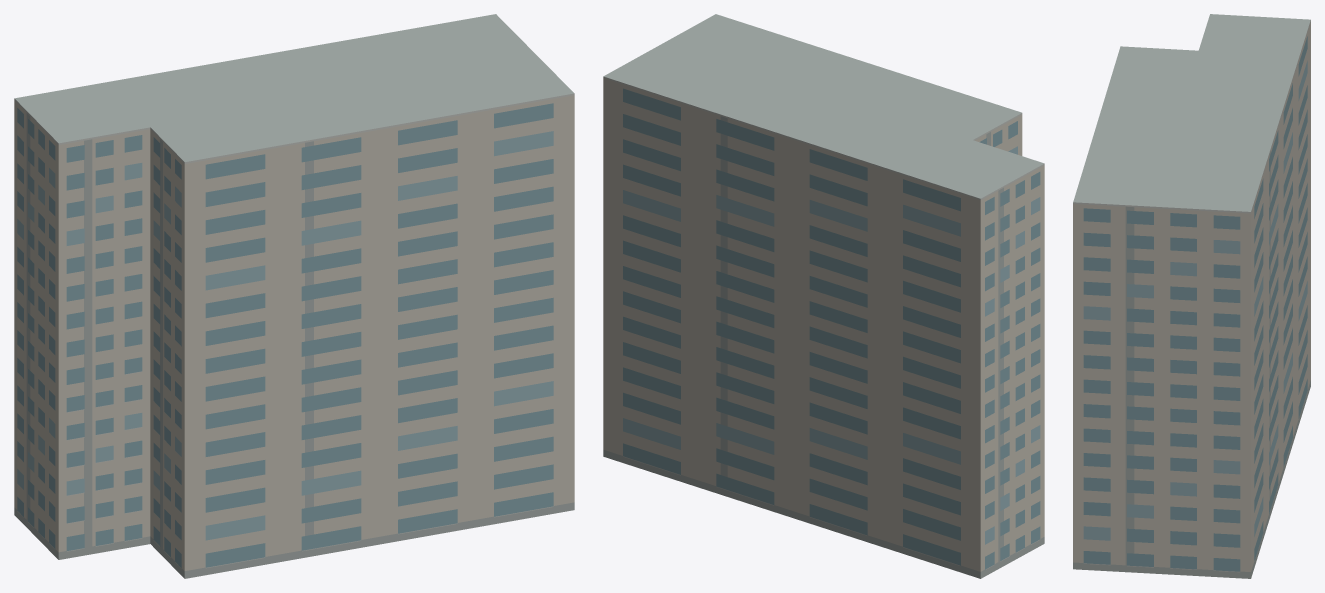
File: residential-ca13d616-8e19-446a-a130-e8547a9db186.glb
The picture shows the model from 3 angles, left to right: view 1: azimuth 30°, elevation 25°; view 2: azimuth 150°, elevation 25°; view 3: azimuth 270°, elevation 25°; orthographic projection. The views are drawn at different scales.
Visible parts, largest first — view 1: residential-ca13d616-8e19-446a-a130-e8547a9db186.tmp; view 2: residential-ca13d616-8e19-446a-a130-e8547a9db186.tmp; view 3: residential-ca13d616-8e19-446a-a130-e8547a9db186.tmp.
Boxes of the visible parts, bbox=[...] form: residential-ca13d616-8e19-446a-a130-e8547a9db186.tmp: bbox=[14, 14, 574, 578]; residential-ca13d616-8e19-446a-a130-e8547a9db186.tmp: bbox=[603, 14, 1044, 578]; residential-ca13d616-8e19-446a-a130-e8547a9db186.tmp: bbox=[1073, 14, 1310, 578].
Size of the model in its own units: 65.95 by 57 by 33.47.
